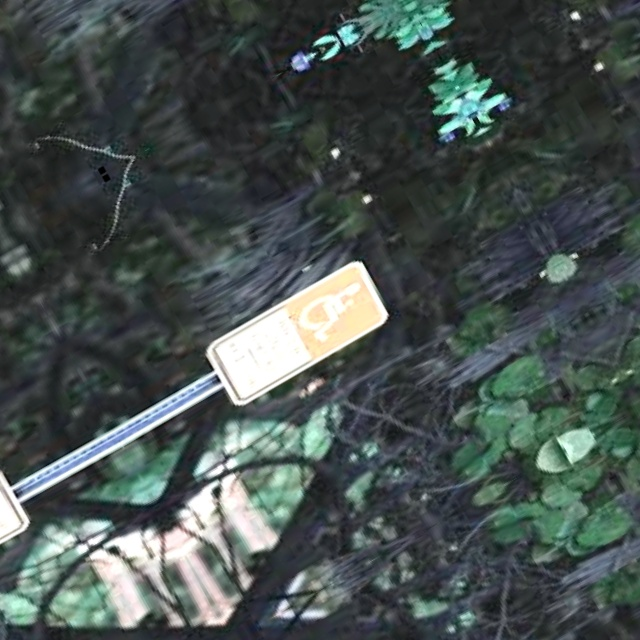ISA: (293, 278, 374, 347)
